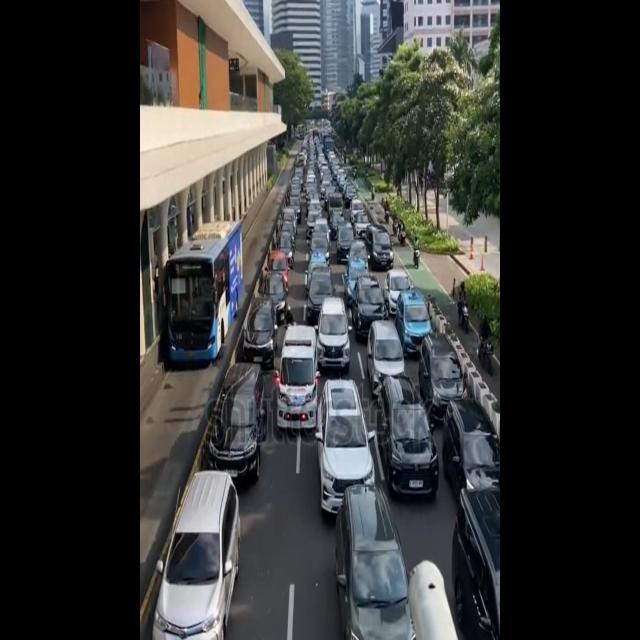Ambulance: (273, 314, 321, 444)
